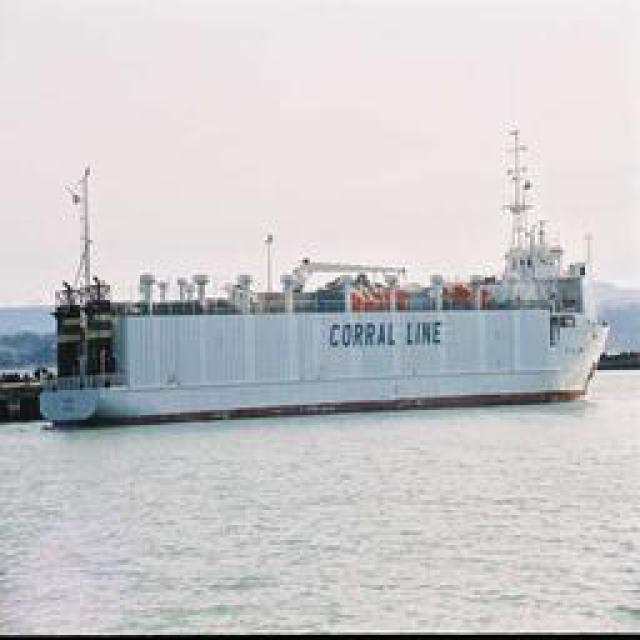Ship: (49, 130, 614, 428)
